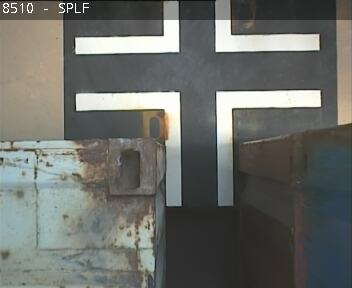groundmarker_1: (74, 88, 322, 207), (73, 1, 320, 54)
